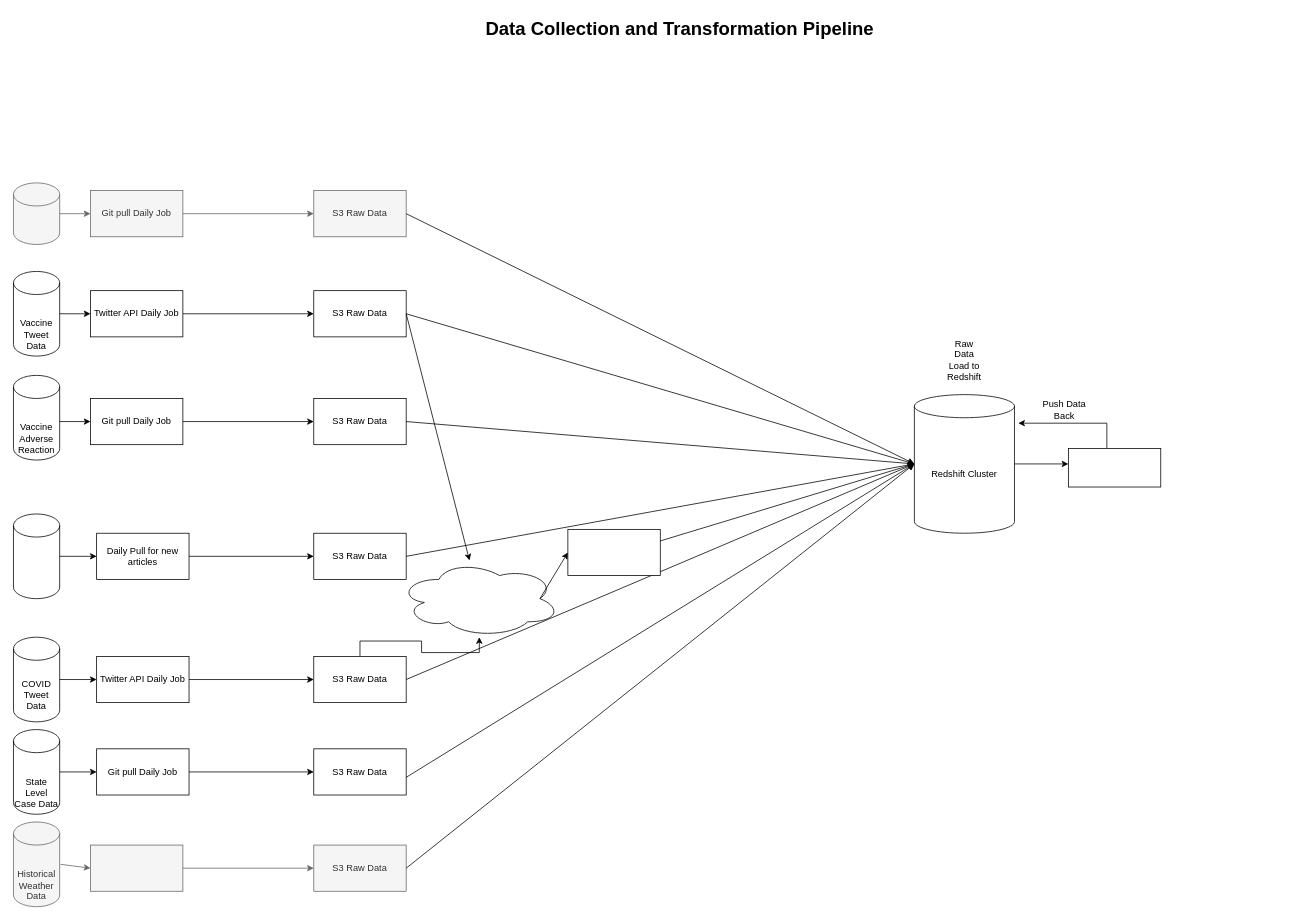
The diagram is 1305 pixels wide and 920 high, and some of its shapes have lost their labels. The centre of each missing label's shape, as x and y in pixels:
"As needed pull" belongs at point (136, 867).
"COVID Research Articles" belongs at point (36, 556).
"EMR Cluster/EC2/ EKS Cluster For Analytics Processing" belongs at point (479, 598).
"Push Data to Fact and Dimension Tables" belongs at point (1114, 467).
"S3 Analytics Data" belongs at point (613, 552).
"Vaccine Data" belongs at point (36, 213).
